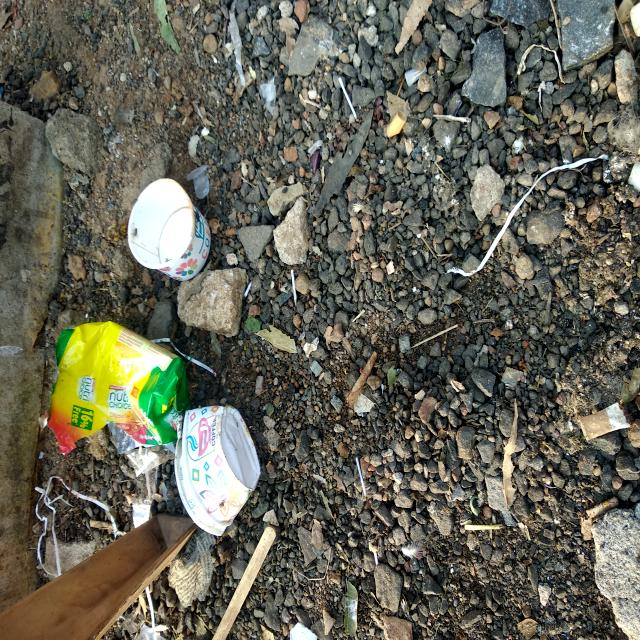Trash: (122, 58, 243, 241), (71, 228, 179, 348), (271, 169, 352, 285)
